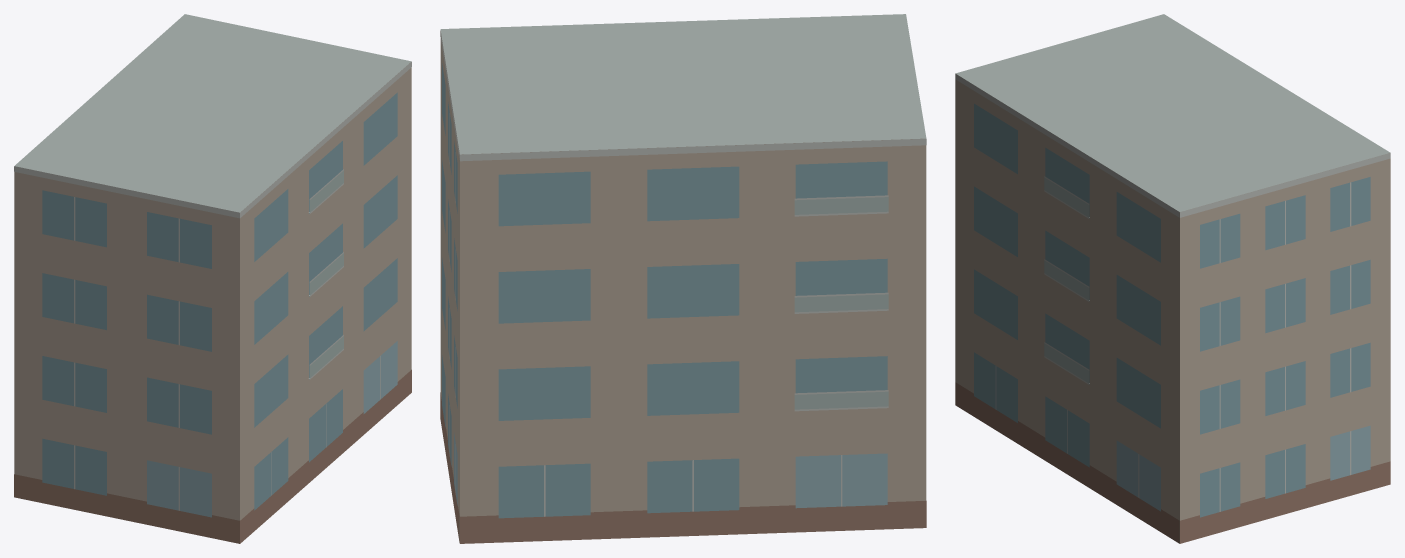
Rendered from survey-upis-32597462.glb.
3 views of the same model, side by side, from view 1: azimuth 30°, elevation 25°; view 2: azimuth 150°, elevation 25°; view 3: azimuth 270°, elevation 25° (orthographic). The views are drawn at different scales.
Visible parts, largest first — view 1: survey-upis-32597462.tmp; view 2: survey-upis-32597462.tmp; view 3: survey-upis-32597462.tmp.
Boxes of the visible parts, left/top/right/bottom form: survey-upis-32597462.tmp: left=14, top=14, right=411, bottom=543; survey-upis-32597462.tmp: left=440, top=14, right=926, bottom=543; survey-upis-32597462.tmp: left=955, top=14, right=1390, bottom=543.
Bounding box in the file's own units: 18.08 × 14.1 × 16.78.
